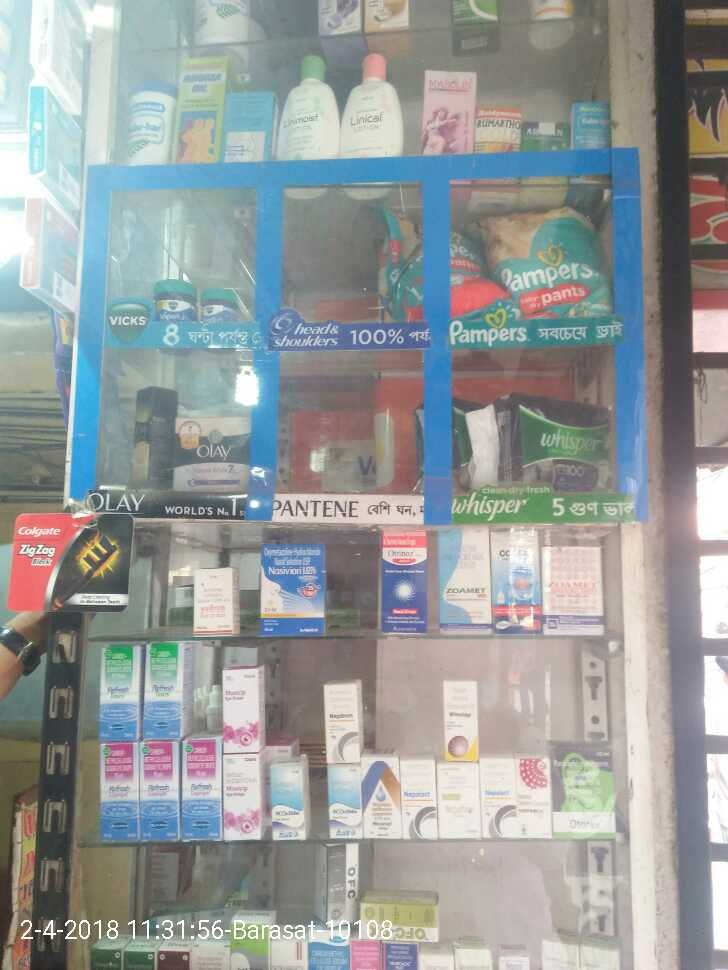vicks: (160, 277, 242, 322)
